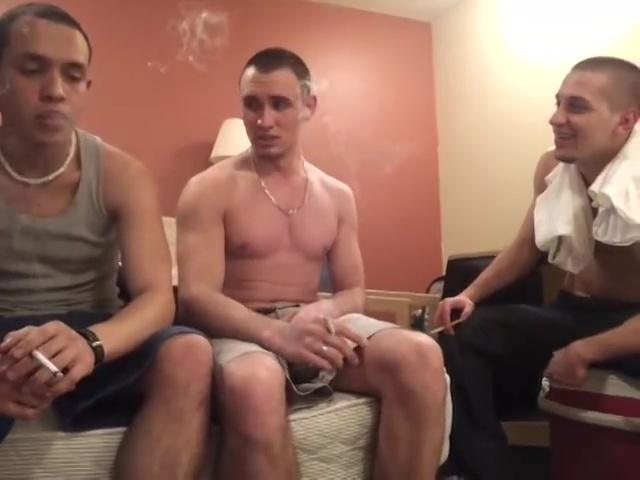cigarette: (29, 346, 66, 378), (429, 316, 468, 334), (321, 313, 338, 338)
